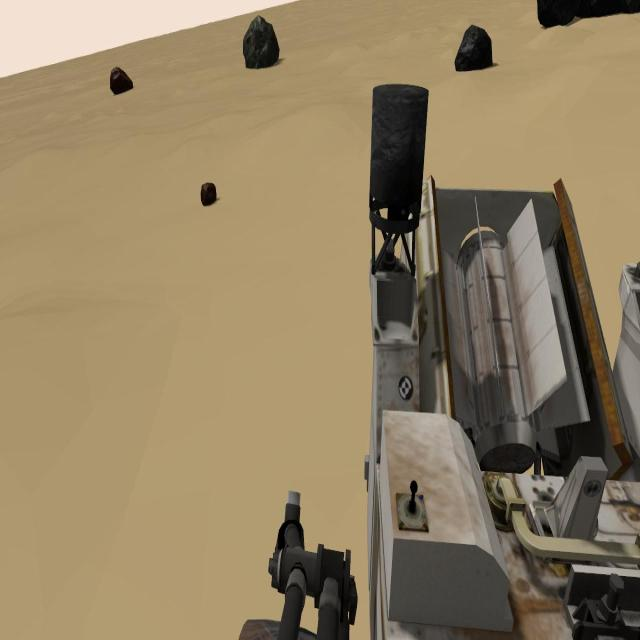rock: (536, 0, 640, 28), (244, 14, 279, 68), (455, 23, 493, 70), (109, 66, 133, 96), (201, 180, 217, 207)
